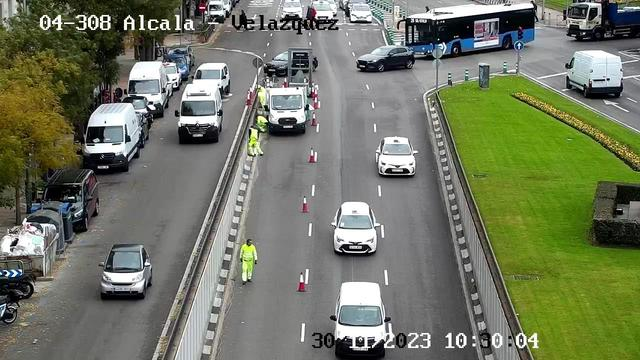bus: (397, 3, 534, 57)
car: (39, 169, 99, 232), (98, 244, 152, 300), (331, 201, 380, 255), (376, 136, 419, 176), (356, 45, 415, 72), (264, 50, 318, 77), (191, 63, 230, 99), (121, 96, 153, 133), (167, 45, 195, 70), (163, 54, 189, 80), (162, 63, 182, 90), (280, 0, 304, 22), (312, 0, 333, 23), (204, 0, 226, 20), (349, 4, 373, 22)
motorcycle: (0, 273, 35, 308)
truck: (329, 282, 391, 358), (84, 103, 140, 171), (566, 0, 640, 41), (174, 84, 223, 142), (566, 50, 623, 97), (124, 61, 169, 117), (263, 87, 309, 133)
